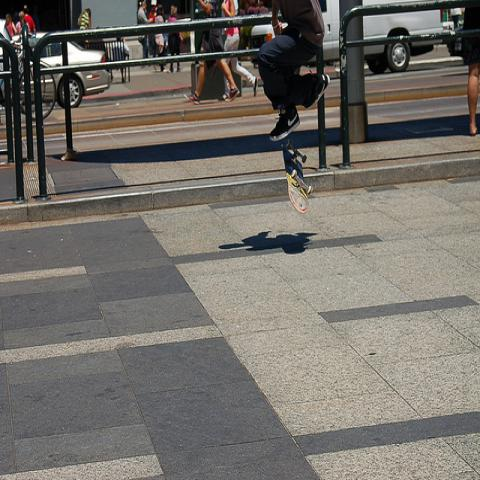car: (30, 31, 112, 108), (0, 47, 36, 106)
truck: (250, 2, 448, 72)
